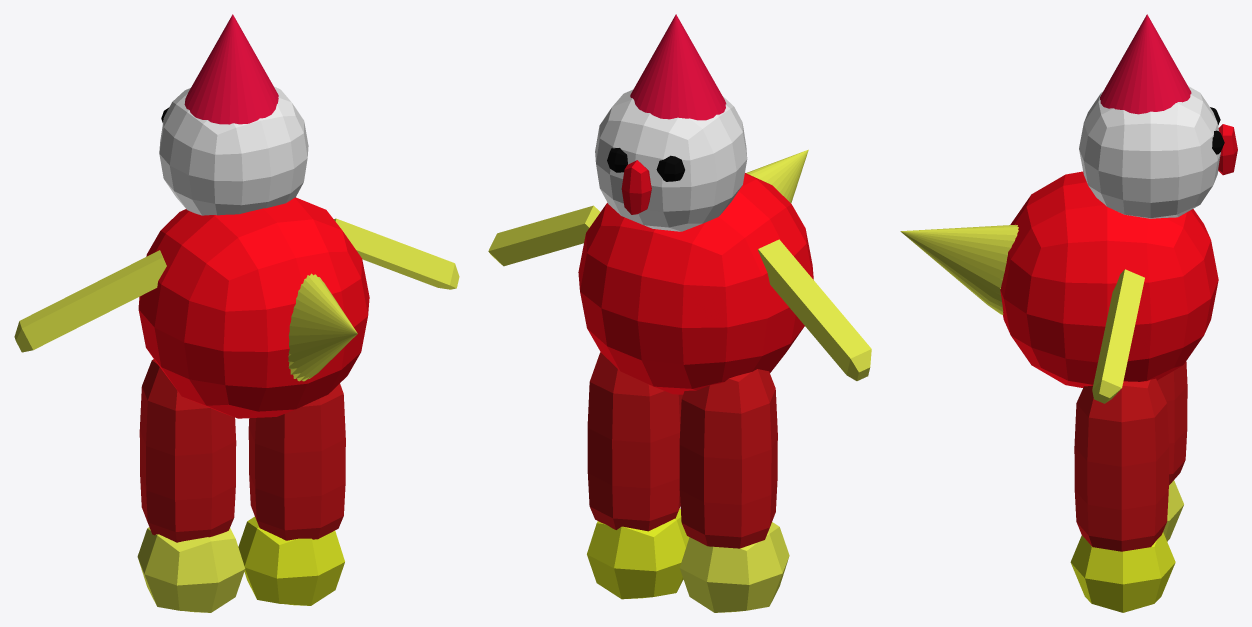
Rendered from zolas.fbx.
3 renders of one model, left to right at view 1: azimuth 30°, elevation 25°; view 2: azimuth 150°, elevation 25°; view 3: azimuth 270°, elevation 25°, orthographic. The views are drawn at different scales.
Visible parts, largest first — view 1: Cube.001, Cube, Cube.003, Cube.006, Cube.002, Cube.007, Cone, Cube.004, Cone.001, Cube.005; view 2: Cube.001, Cube.003, Cube.006, Cube, Cube.002, Cube.007, Cone, Cube.004, Cube.005, Cone.001, Cube.008, Cube.009; view 3: Cube.001, Cube.006, Cube, Cube.007, Cone.001, Cone, Cube.005, Cube.003, Cube.008, Cube.002.
Boxes of the visible parts, <box> form: Cube.001: <box>138,197,369,418</box>; Cube: <box>159,86,308,215</box>; Cube.003: <box>139,359,236,542</box>; Cube.006: <box>248,383,345,540</box>; Cube.002: <box>137,527,245,612</box>; Cube.007: <box>238,516,344,605</box>; Cone: <box>184,14,278,124</box>; Cube.004: <box>14,250,166,352</box>; Cone.001: <box>288,273,357,381</box>; Cube.005: <box>334,218,459,289</box>; Cube.001: <box>578,173,813,394</box>; Cube.003: <box>679,369,777,548</box>; Cube.006: <box>587,352,682,531</box>; Cube: <box>595,89,747,231</box>; Cube.002: <box>679,522,789,612</box>; Cube.007: <box>587,508,689,599</box>; Cone: <box>630,14,726,120</box>; Cube.004: <box>758,239,871,380</box>; Cube.005: <box>488,205,600,266</box>; Cone.001: <box>746,149,808,203</box>; Cube.008: <box>621,160,651,214</box>; Cube.009: <box>656,155,684,181</box>; Cube.001: <box>1000,171,1218,387</box>; Cube.006: <box>1074,378,1168,551</box>; Cube: <box>1079,86,1220,218</box>; Cube.007: <box>1070,532,1175,612</box>; Cone.001: <box>900,224,1018,314</box>; Cone: <box>1100,14,1191,114</box>; Cube.005: <box>1092,269,1144,403</box>; Cube.003: <box>1157,361,1187,484</box>; Cube.008: <box>1218,124,1237,175</box>; Cube.002: <box>1163,480,1183,541</box>.
Size of the model in its own units: 187 by 261 by 139.
